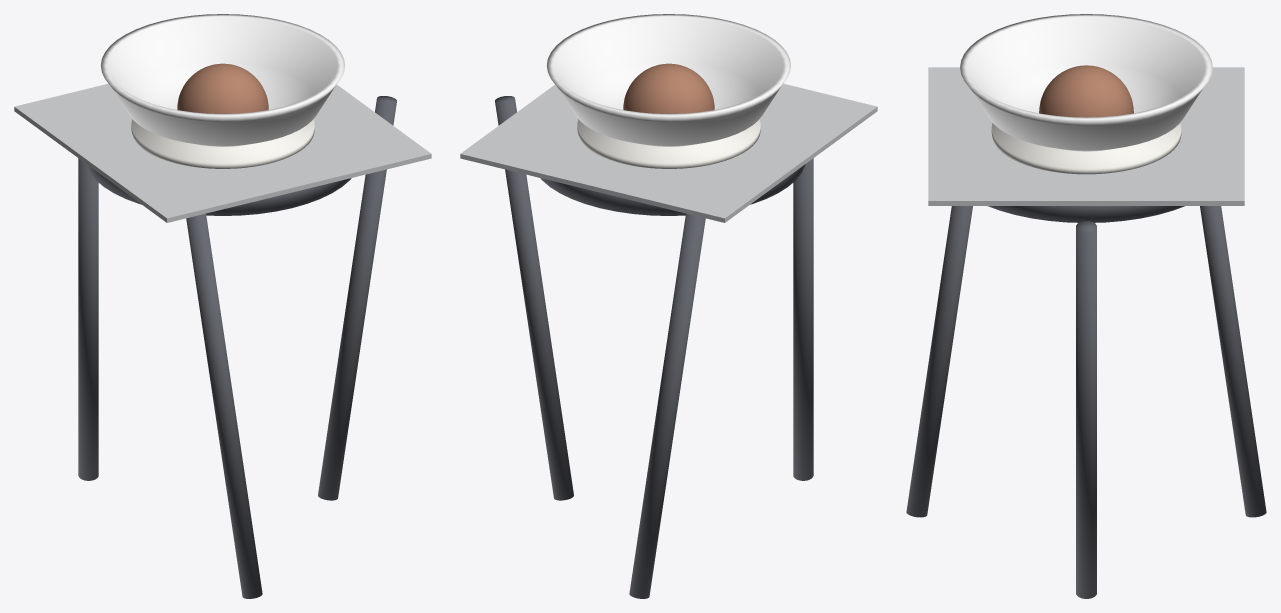
The model's file is tripod-wire-gauze.glb.
The picture shows the model from 3 angles, left to right: view 1: azimuth 30°, elevation 25°; view 2: azimuth 150°, elevation 25°; view 3: azimuth 270°, elevation 25°; orthographic projection. The views are drawn at different scales.
Parts seen in each view (by area): view 1: tripod-wire-gauze-gauze-sheet, tripod-wire-gauze-china-dish, tripod-wire-gauze-leg-2, tripod-wire-gauze-leg-0, tripod-wire-gauze-leg-1, tripod-wire-gauze-ceramic-pad, tripod-wire-gauze-copper-powder, tripod-wire-gauze-ring; view 2: tripod-wire-gauze-gauze-sheet, tripod-wire-gauze-china-dish, tripod-wire-gauze-leg-1, tripod-wire-gauze-leg-0, tripod-wire-gauze-leg-2, tripod-wire-gauze-ceramic-pad, tripod-wire-gauze-copper-powder, tripod-wire-gauze-ring; view 3: tripod-wire-gauze-gauze-sheet, tripod-wire-gauze-china-dish, tripod-wire-gauze-leg-0, tripod-wire-gauze-leg-1, tripod-wire-gauze-leg-2, tripod-wire-gauze-ceramic-pad, tripod-wire-gauze-copper-powder, tripod-wire-gauze-ring.
Part boxes in pixels (x1,y1,x2,y2): tripod-wire-gauze-gauze-sheet: (14,83,431,222); tripod-wire-gauze-china-dish: (100,14,345,146); tripod-wire-gauze-leg-2: (186,213,262,598); tripod-wire-gauze-leg-0: (318,96,396,500); tripod-wire-gauze-leg-1: (78,158,98,480); tripod-wire-gauze-ceramic-pad: (131,119,314,168); tripod-wire-gauze-copper-powder: (177,63,268,113); tripod-wire-gauze-ring: (86,164,351,215); tripod-wire-gauze-gauze-sheet: (460,83,877,222); tripod-wire-gauze-china-dish: (546,14,791,146); tripod-wire-gauze-leg-1: (629,213,705,598); tripod-wire-gauze-leg-0: (495,96,573,500); tripod-wire-gauze-leg-2: (793,158,813,480); tripod-wire-gauze-ceramic-pad: (577,119,760,168); tripod-wire-gauze-copper-powder: (623,63,714,113); tripod-wire-gauze-ring: (540,164,805,215); tripod-wire-gauze-gauze-sheet: (928,67,1244,205); tripod-wire-gauze-china-dish: (960,14,1212,151); tripod-wire-gauze-leg-0: (1076,221,1096,598); tripod-wire-gauze-leg-1: (1200,206,1266,517); tripod-wire-gauze-leg-2: (906,206,972,517); tripod-wire-gauze-ceramic-pad: (991,123,1181,174); tripod-wire-gauze-copper-powder: (1039,65,1133,117); tripod-wire-gauze-ring: (988,206,1184,222).
Size of the model in its own units: 0.1383 by 0.1986 by 0.1367.
